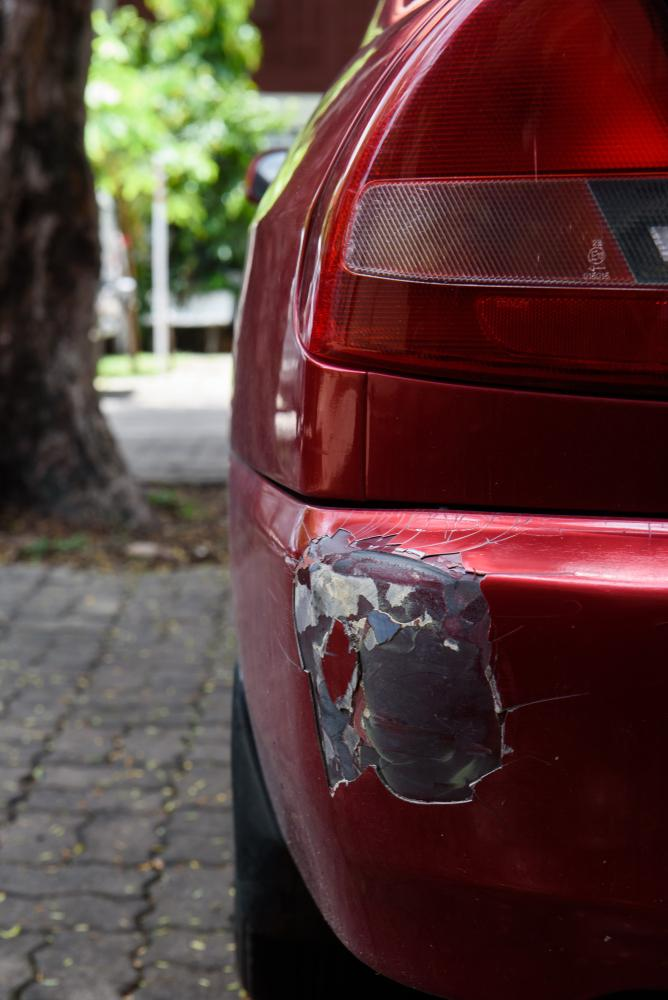scratch: (283, 526, 524, 820)
